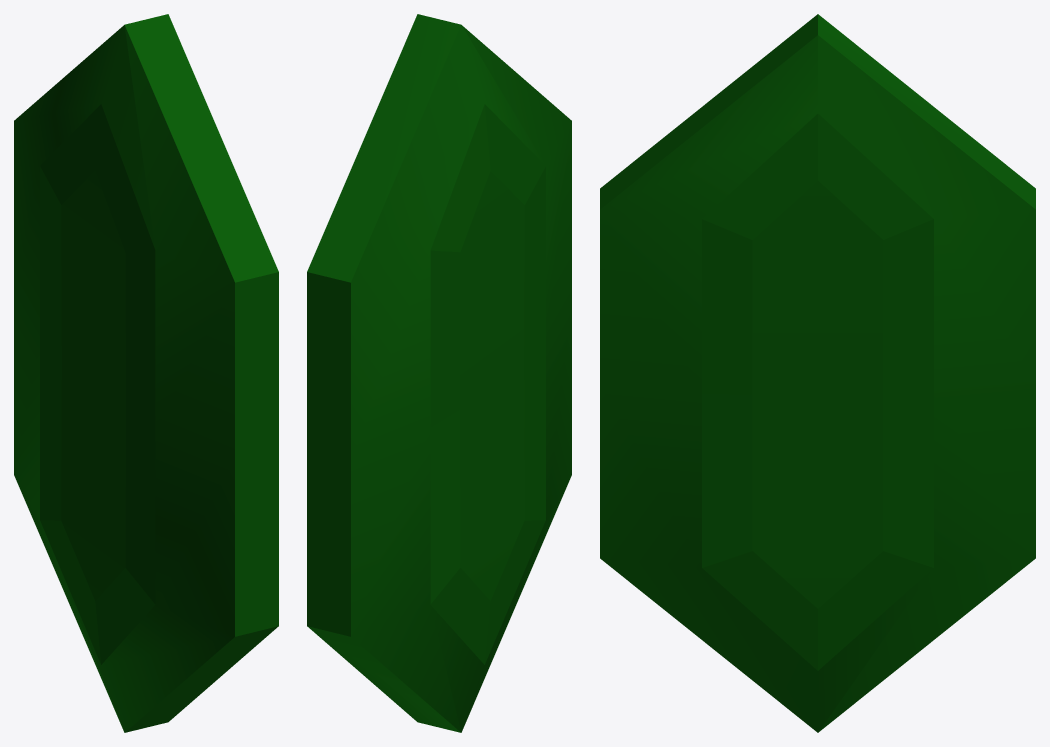
File: PH_CAV_RUBY_A.FBX
3 renders of one model, left to right at view 1: azimuth 30°, elevation 25°; view 2: azimuth 150°, elevation 25°; view 3: azimuth 270°, elevation 25°, orthographic.
Parts seen in each view (by area): view 1: Box015; view 2: Box015; view 3: Box015.
Boxes of the visible parts, bbox=[...] form: Box015: bbox=[14, 14, 278, 732]; Box015: bbox=[307, 14, 571, 732]; Box015: bbox=[600, 14, 1035, 732].
Size of the model in its own units: 5.44 by 37.18 by 21.04.
